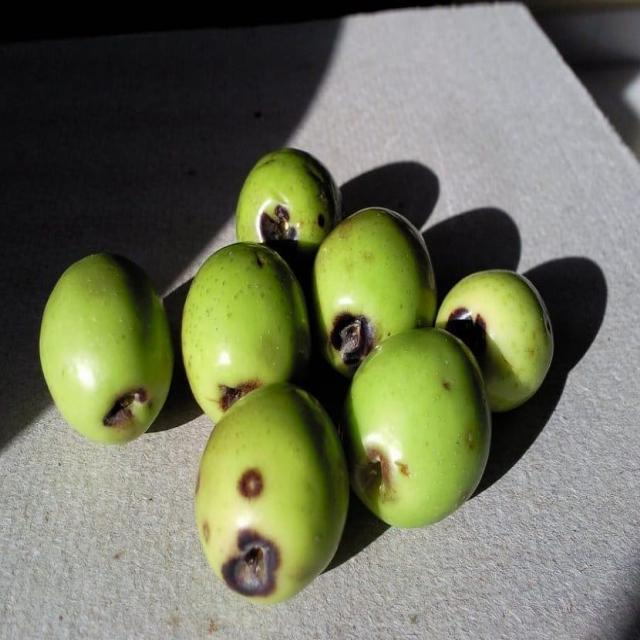Anthracnose: (195, 383, 348, 602), (346, 329, 490, 526), (39, 254, 172, 440), (181, 242, 311, 420), (314, 207, 436, 376), (435, 270, 553, 410), (236, 148, 341, 268)
